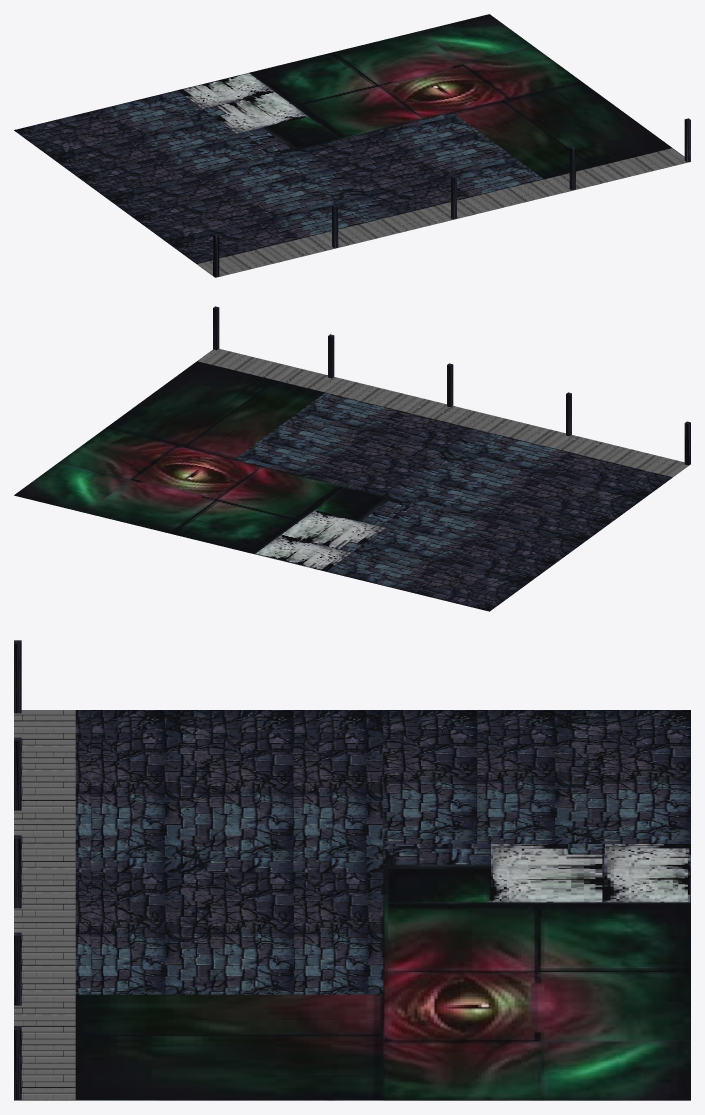
File: Piso.obj
3 views of the same model, one above another, from view 1: azimuth 30°, elevation 25°; view 2: azimuth 150°, elevation 25°; view 3: azimuth 270°, elevation 25° (orthographic). The views are drawn at different scales.
Visible parts, largest first — view 1: Piso; view 2: Piso; view 3: Piso.
Boxes of the visible parts, bbox=[...] form: Piso: bbox=[14, 14, 690, 277]; Piso: bbox=[14, 306, 690, 611]; Piso: bbox=[14, 640, 690, 1100].
Bounding box in the file's own units: 18.75 × 1.58 × 13.75.
